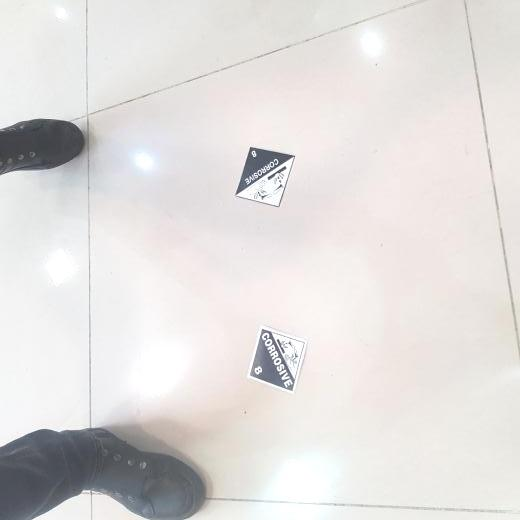corrosive: (235, 146, 294, 206), (251, 329, 307, 392)
